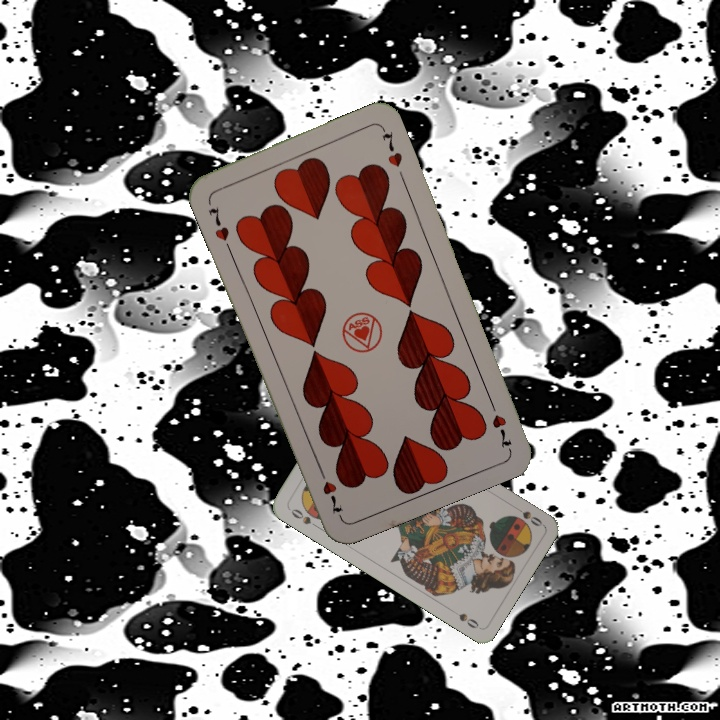H7: (485, 395, 514, 452), (204, 203, 232, 243)
SO: (508, 502, 545, 529), (285, 504, 321, 531)
